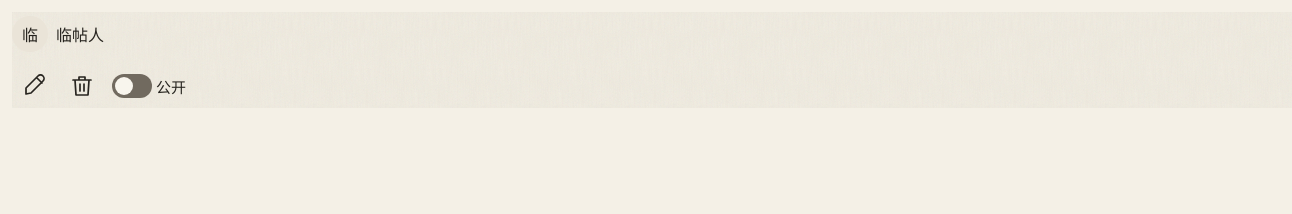
Scenario: Work detail actions for the author › states the answered visibility without claiming a change it did not make
This screenshot has width=1292, height=214.
Click the switch labelled "公开": (149, 86) top-left (108, 64), bottom-right (190, 108)
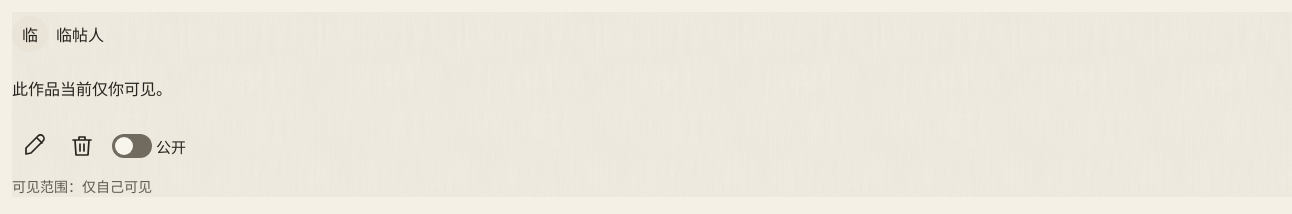
Result: the message "可见范围：仅自己可见" is shown at top-left (12, 178), bottom-right (152, 195)
